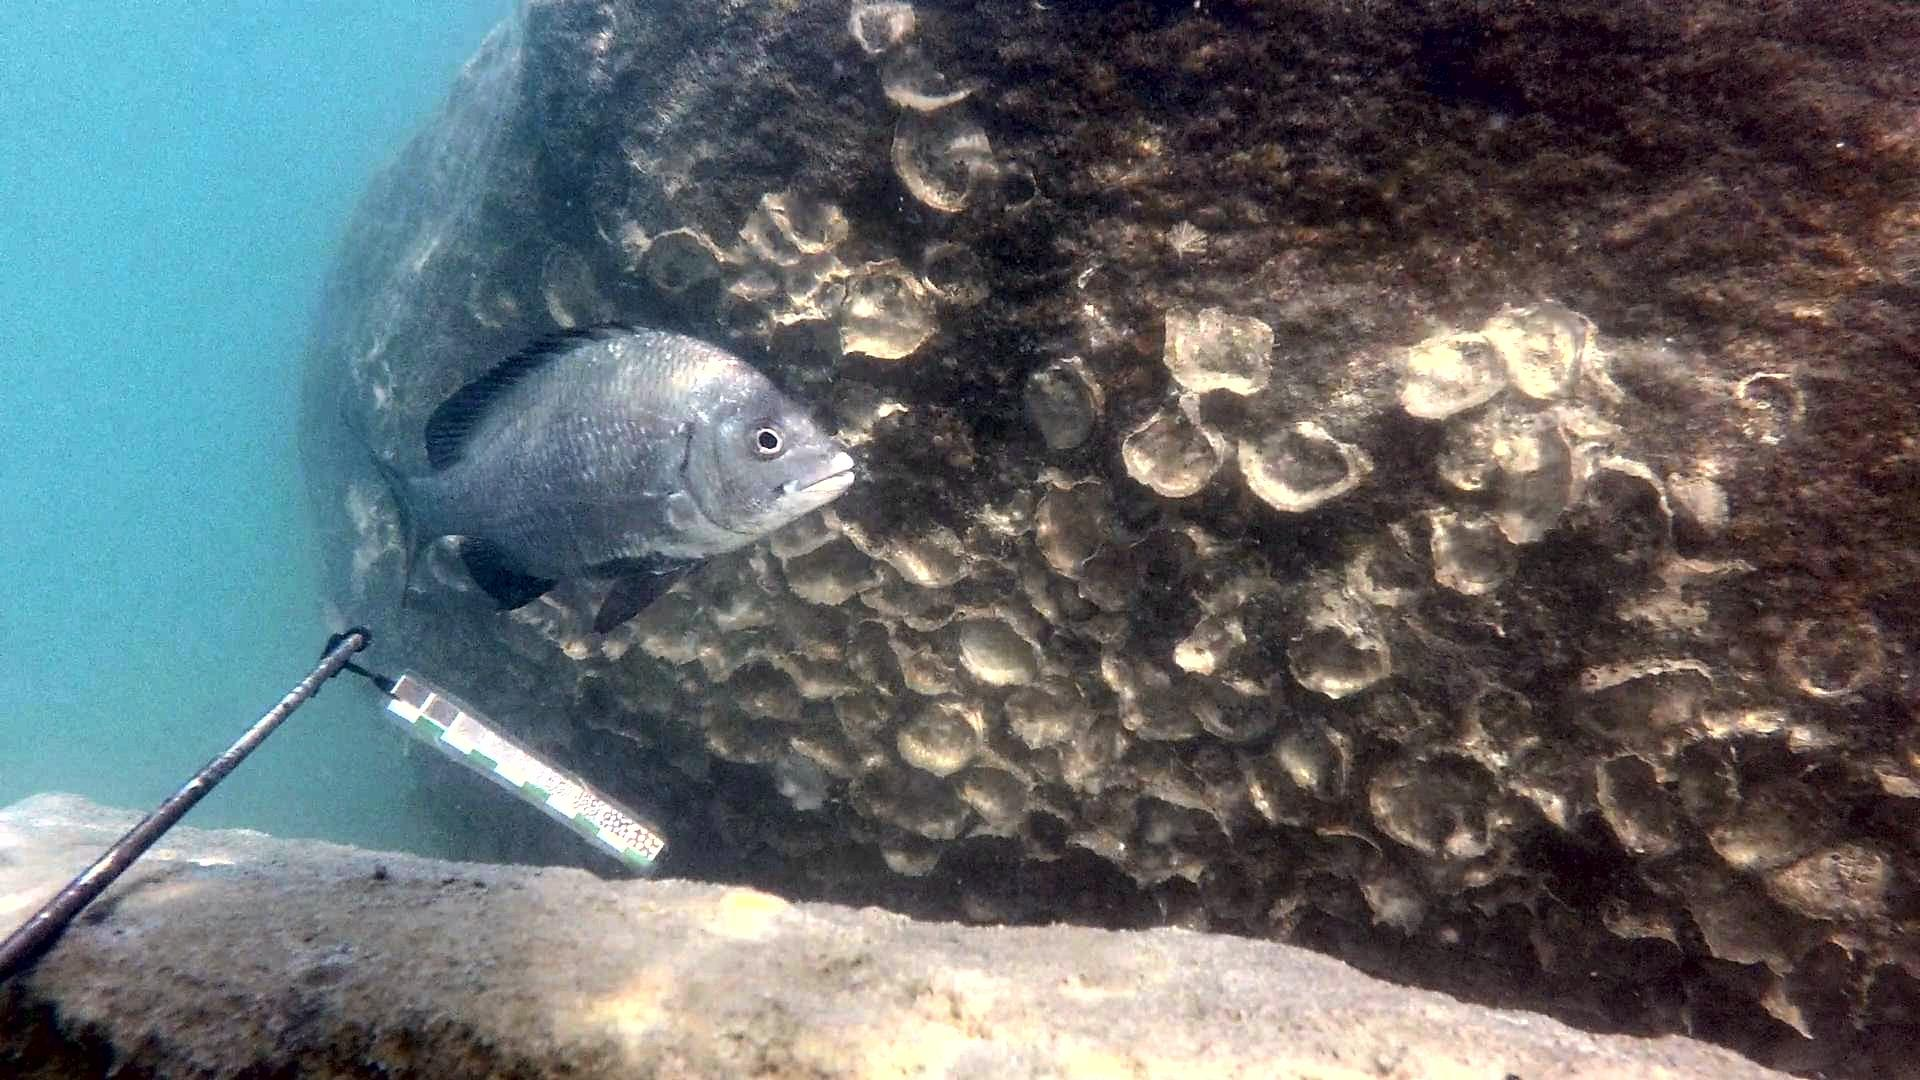acanthopagrus palmaris: (343, 314, 866, 642)
